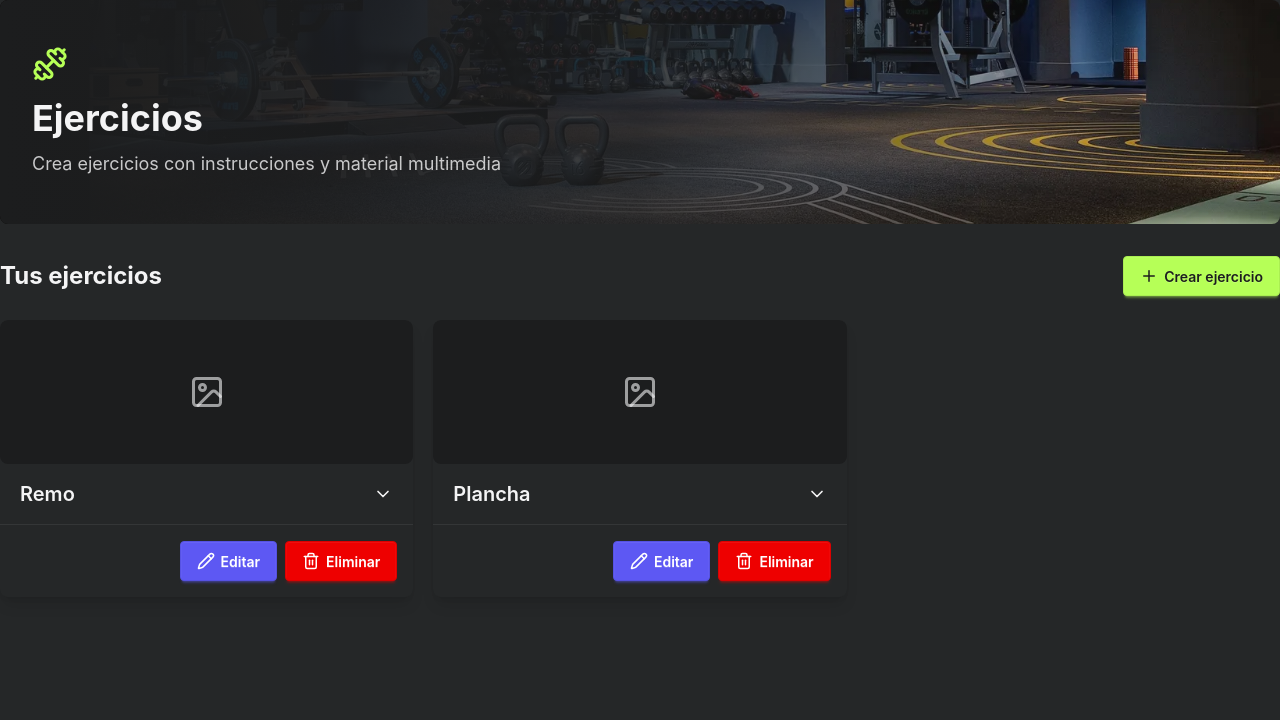
Scenario: ExercisesView FitPro › protects dirty dismissal and exposes independent detail cards
The width and height of the screenshot is (1280, 720).
Expected: the heading "Remo" is shown, [20,480,75,508]
Click the button with aria-label "Editar Remo": (228,561) [180,541,277,581]
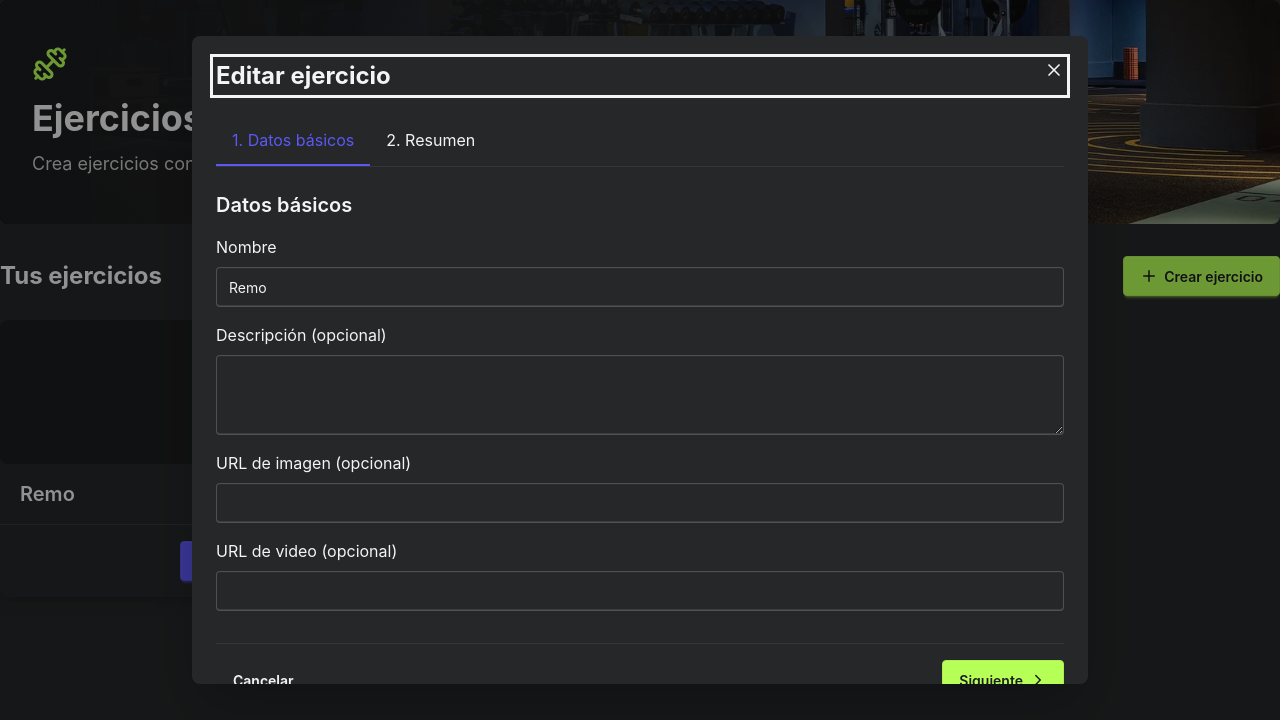
Replace the text in the field labelled "Nombre" with "Remo nuevo": (640,287) [216,267,1064,307]
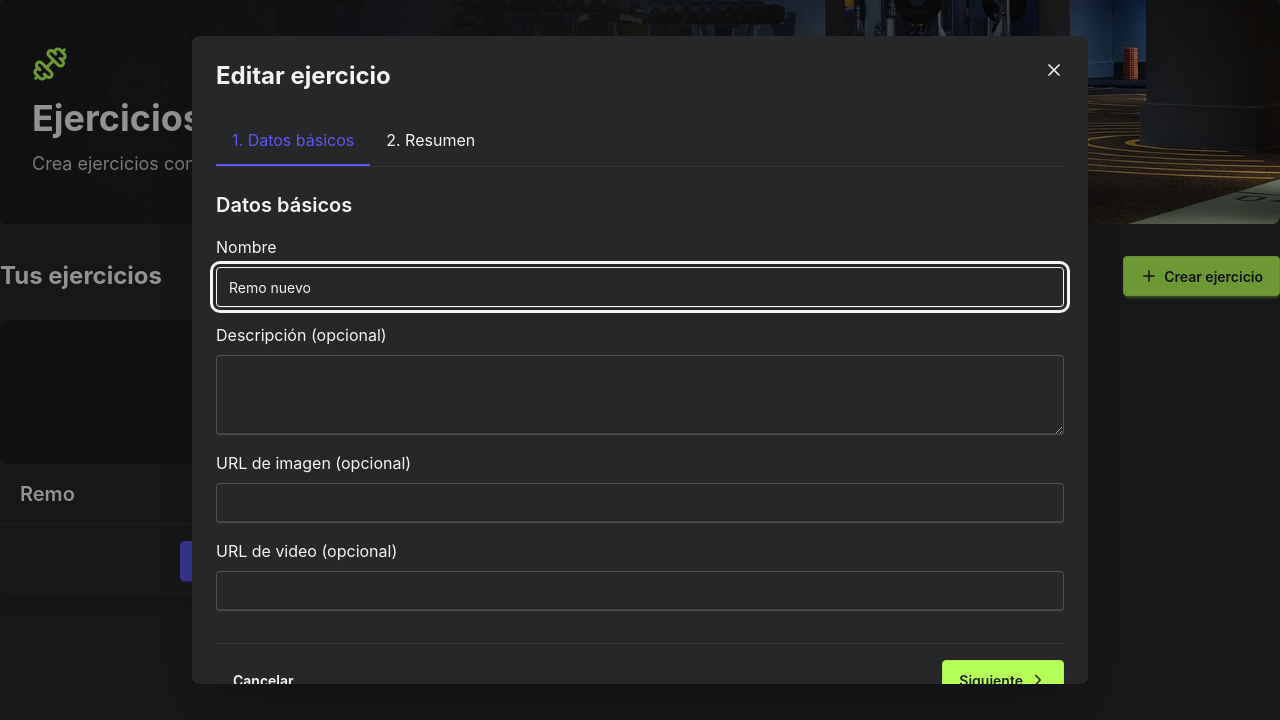
Click the button "Cancelar": (263,680) [216,660,311,700]
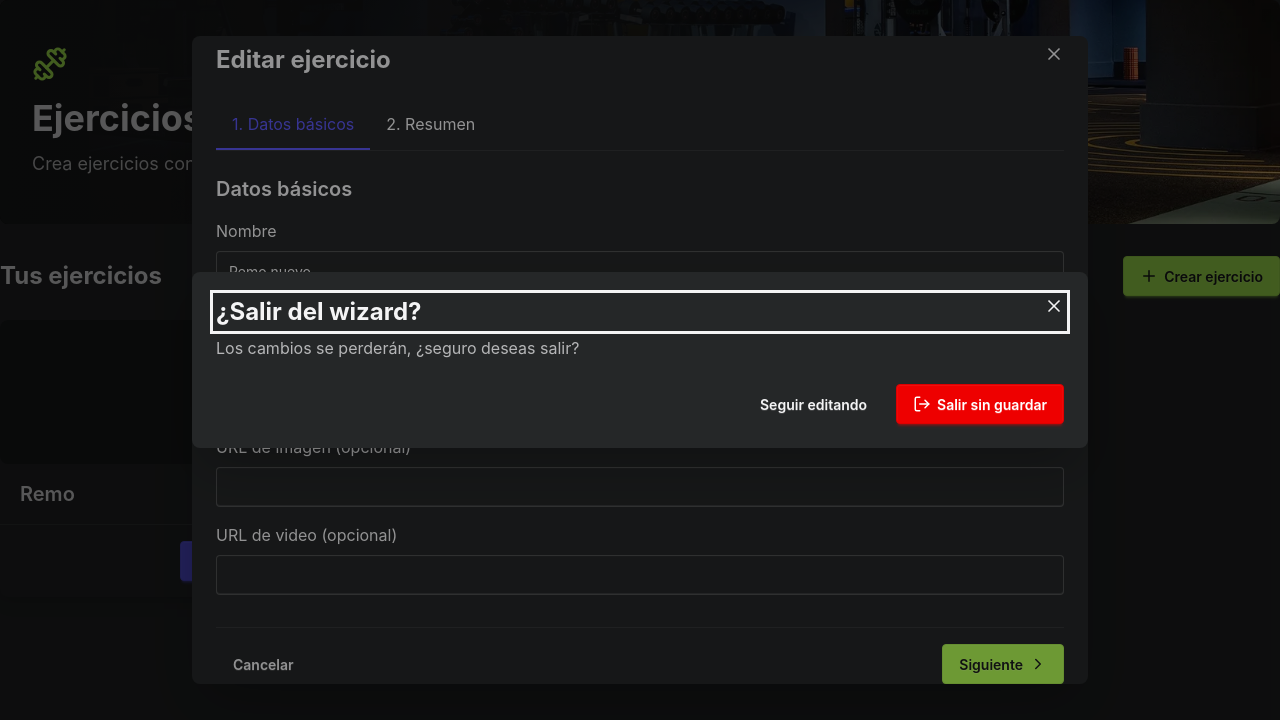
Expected: the dialog "¿Salir del wizard?" is shown
Click the button "Seguir editando": (814,404) [743,384,884,424]
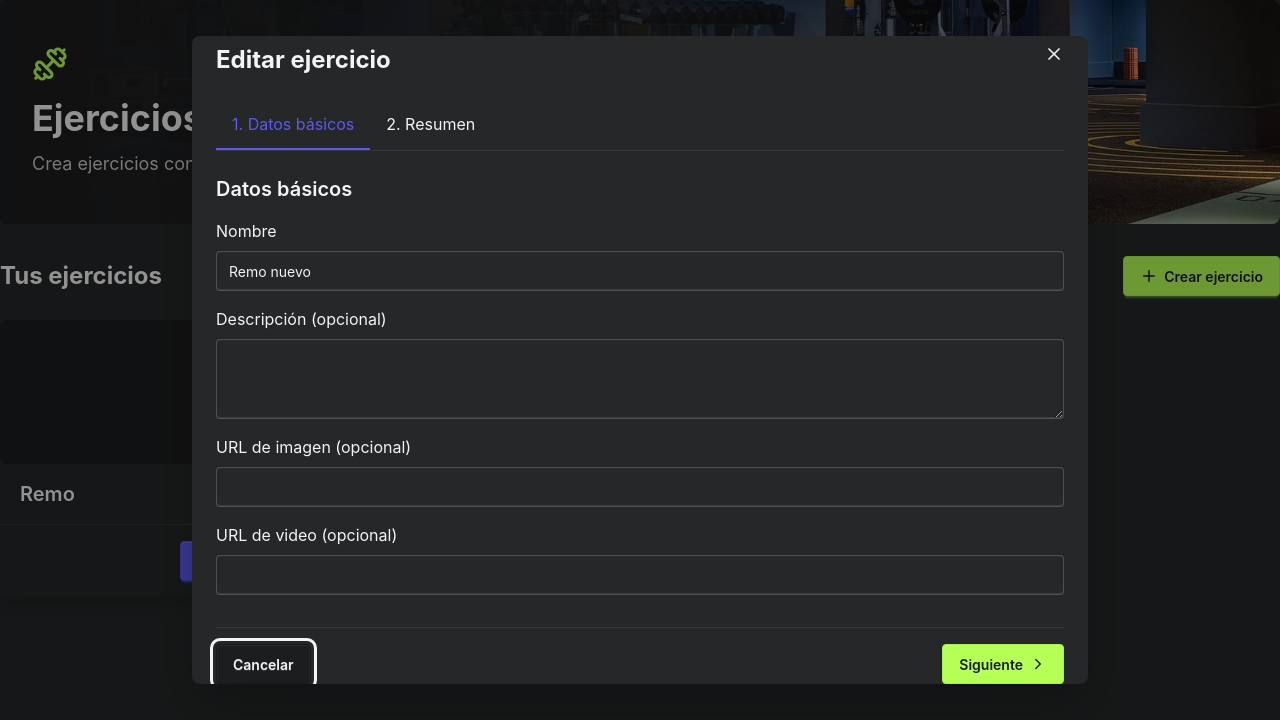
Expected: the heading "¿Salir del wizard?" is gone
